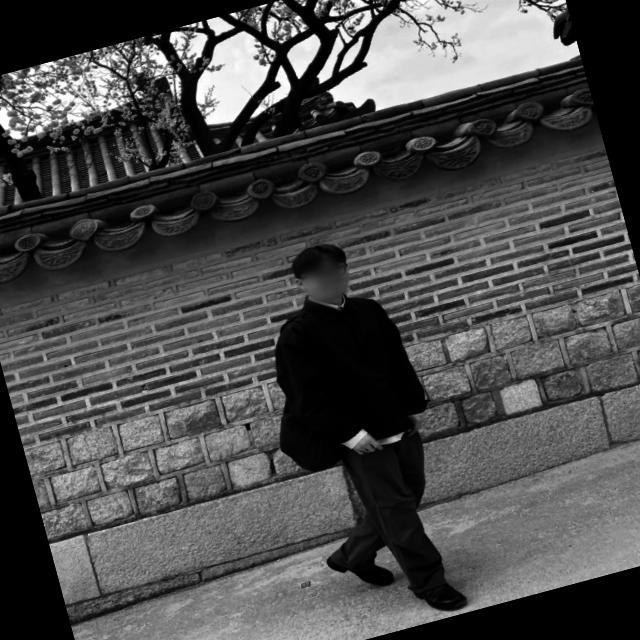jacket: (248, 279, 438, 477)
slacks: (304, 423, 464, 613)
